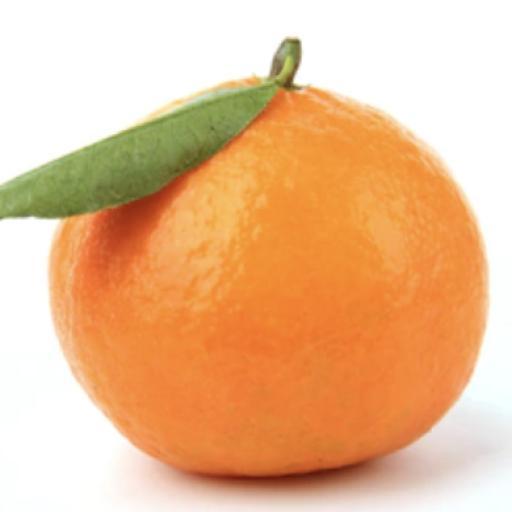orange: (50, 88, 487, 475)
